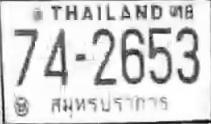2: (92, 28, 116, 85)
3: (174, 26, 200, 84)
4: (43, 28, 68, 84)
5: (148, 26, 172, 84)
6: (120, 27, 144, 83)
7: (12, 28, 38, 86)
SPK: (48, 91, 170, 119)
